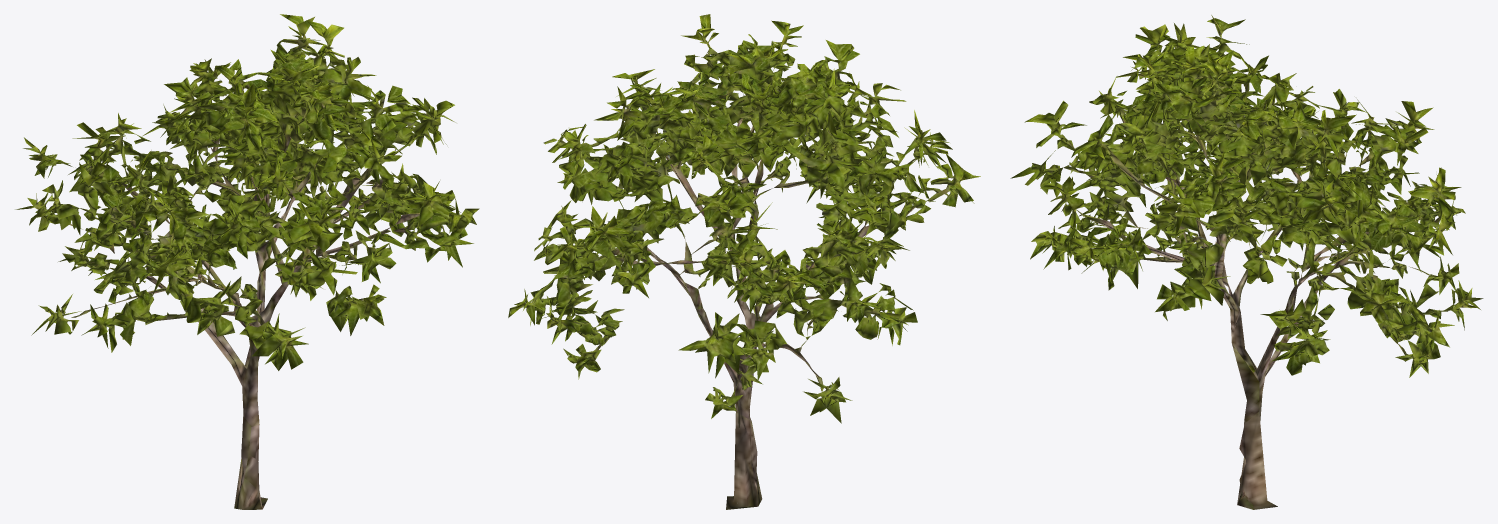
Rendered from env-tree2.glb.
3 views of the same model, side by side, from view 1: azimuth 30°, elevation 25°; view 2: azimuth 150°, elevation 25°; view 3: azimuth 270°, elevation 25° (orthographic). The views are drawn at different scales.
Visible parts, largest first — view 1: Meshy_AI_Verdant_Solitude_0909084318_texture; view 2: Meshy_AI_Verdant_Solitude_0909084318_texture; view 3: Meshy_AI_Verdant_Solitude_0909084318_texture.
Part boxes in pixels (<box>): Meshy_AI_Verdant_Solitude_0909084318_texture: <box>15,14,479,509</box>; Meshy_AI_Verdant_Solitude_0909084318_texture: <box>508,14,980,509</box>; Meshy_AI_Verdant_Solitude_0909084318_texture: <box>1010,15,1483,509</box>.
Size of the model in its own units: 1.64 by 1.89 by 1.7.
Materials: 1 (1 with a texture image).
